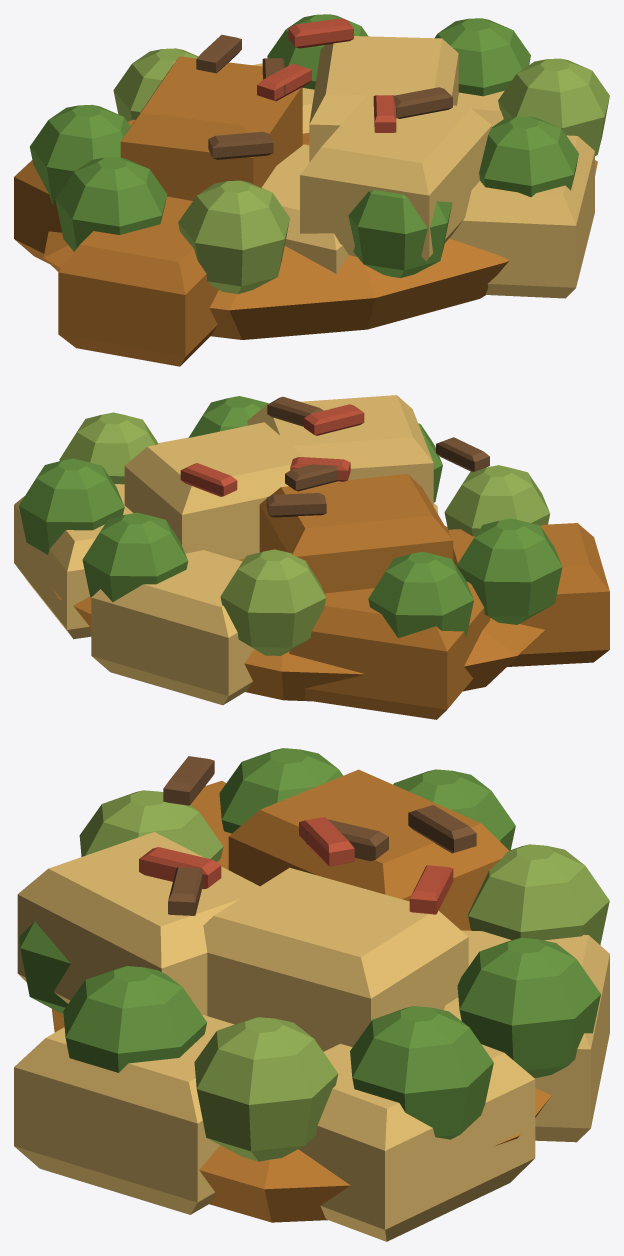
The model's file is filling.obj.
3 renders of one model, top to bottom at view 1: azimuth 30°, elevation 25°; view 2: azimuth 150°, elevation 25°; view 3: azimuth 270°, elevation 25°, orthographic. The views are drawn at different scales.
Visible parts, largest first — view 1: filling; view 2: filling; view 3: filling.
Part boxes in pixels (x1,y1,x2,y2): filling: [14, 14, 609, 366]; filling: [14, 395, 609, 719]; filling: [14, 748, 609, 1241].
Size of the model in its own units: 0.4253 by 0.1479 by 0.3018.
